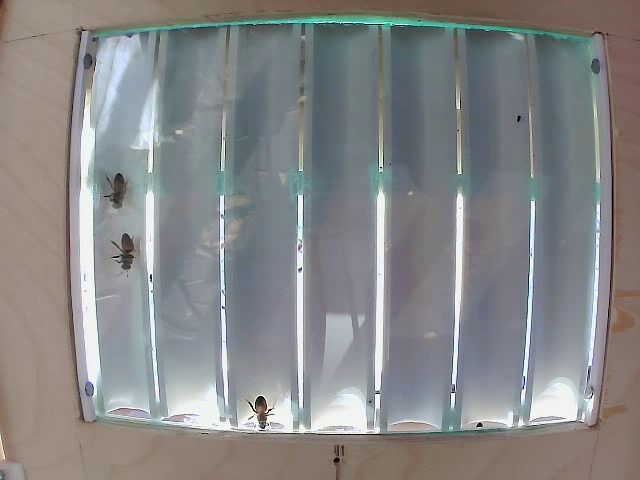bee: (98, 154, 136, 207), (110, 235, 154, 271), (238, 392, 272, 421)
